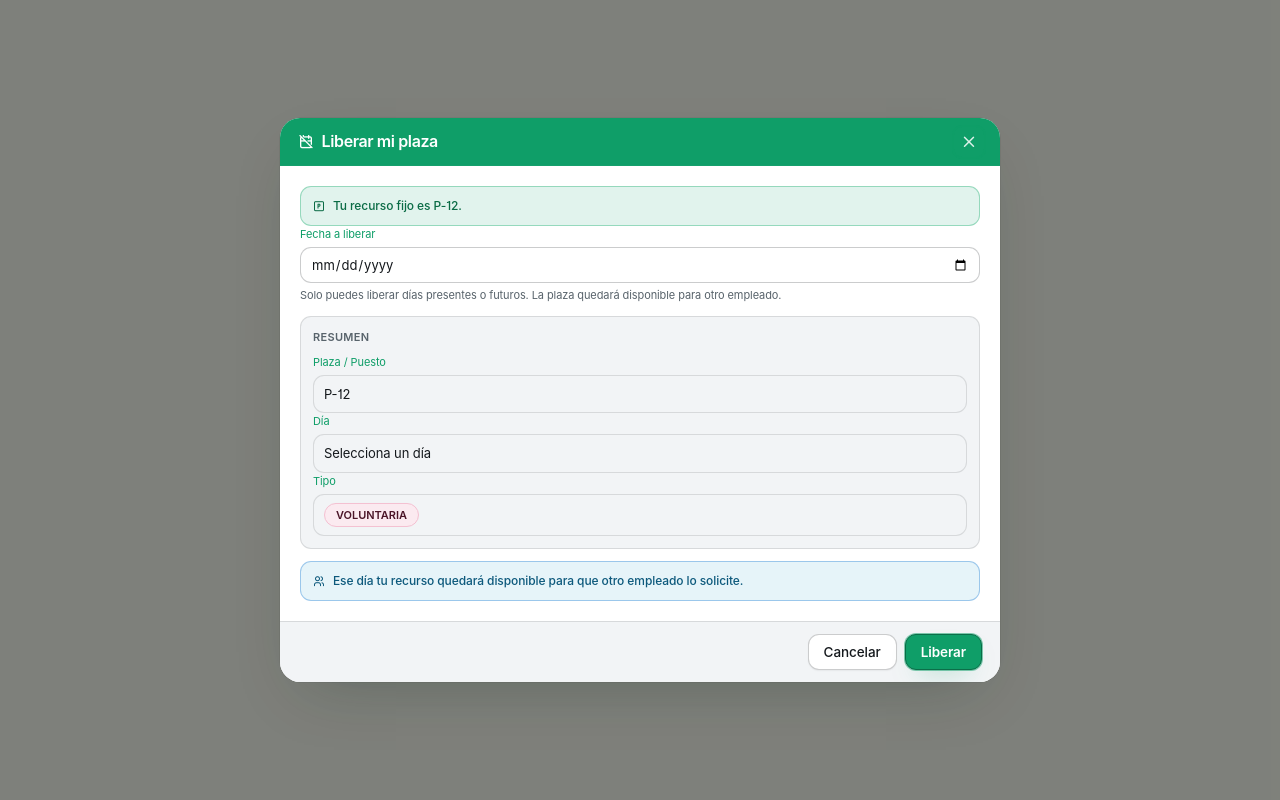
Test: ReleaseResourceModal › should_require_a_date_before_releasing
Click the button "Liberar".
click(943, 652)  # box 905,634 -> 982,670
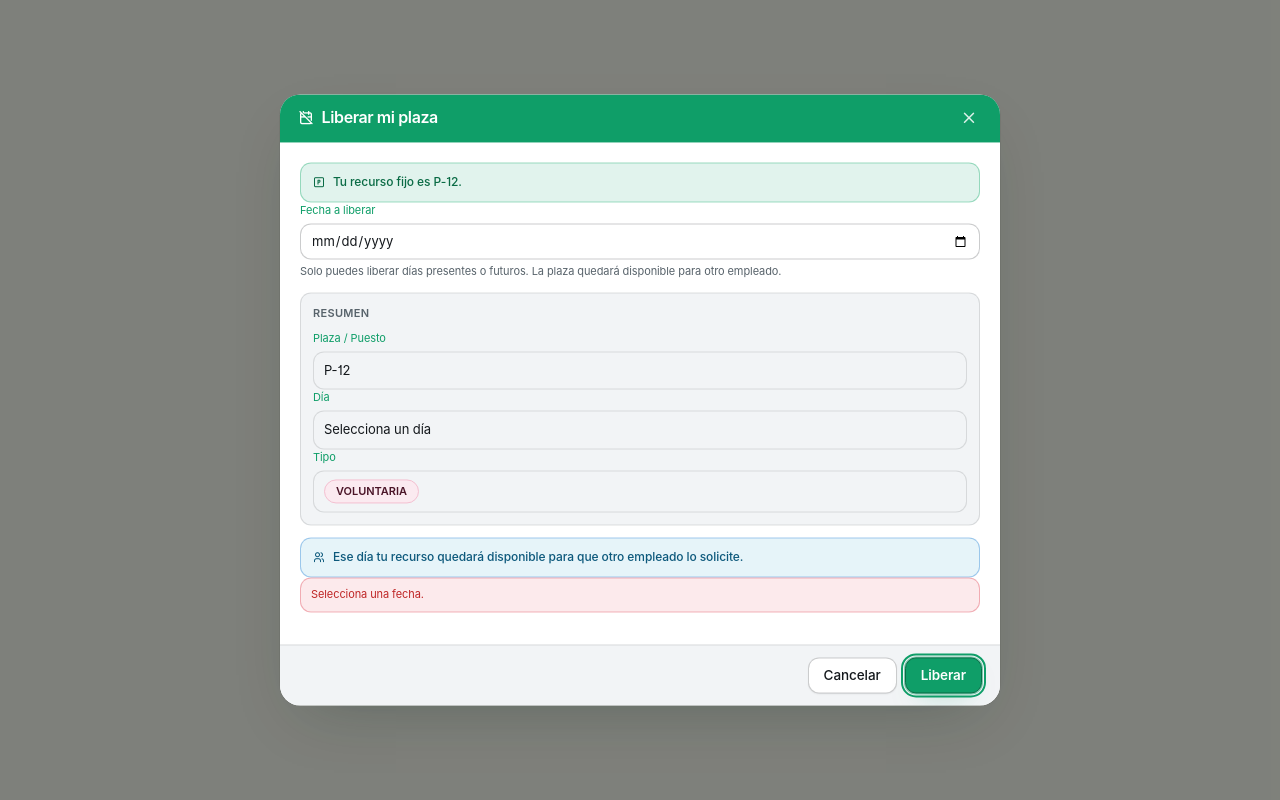
Expected: the message "Selecciona una fecha." is shown, 300,578 -> 980,612
